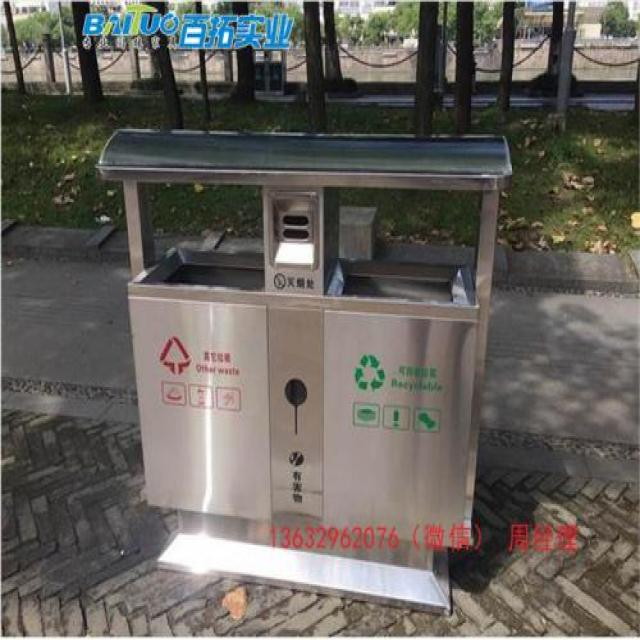garbage_bin: (93, 125, 511, 612)
